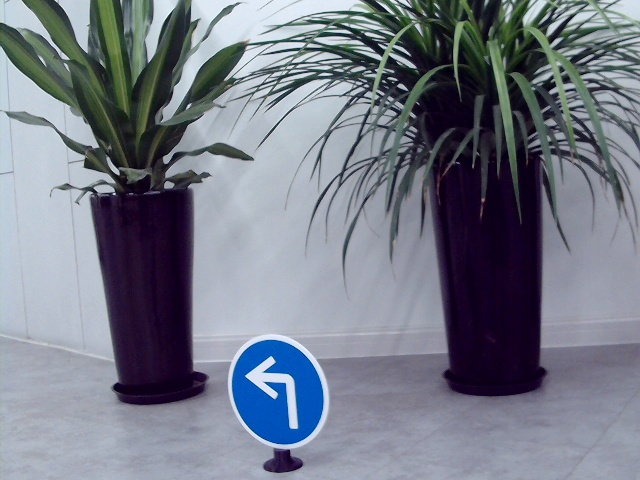turn_left: (245, 352, 307, 433)
